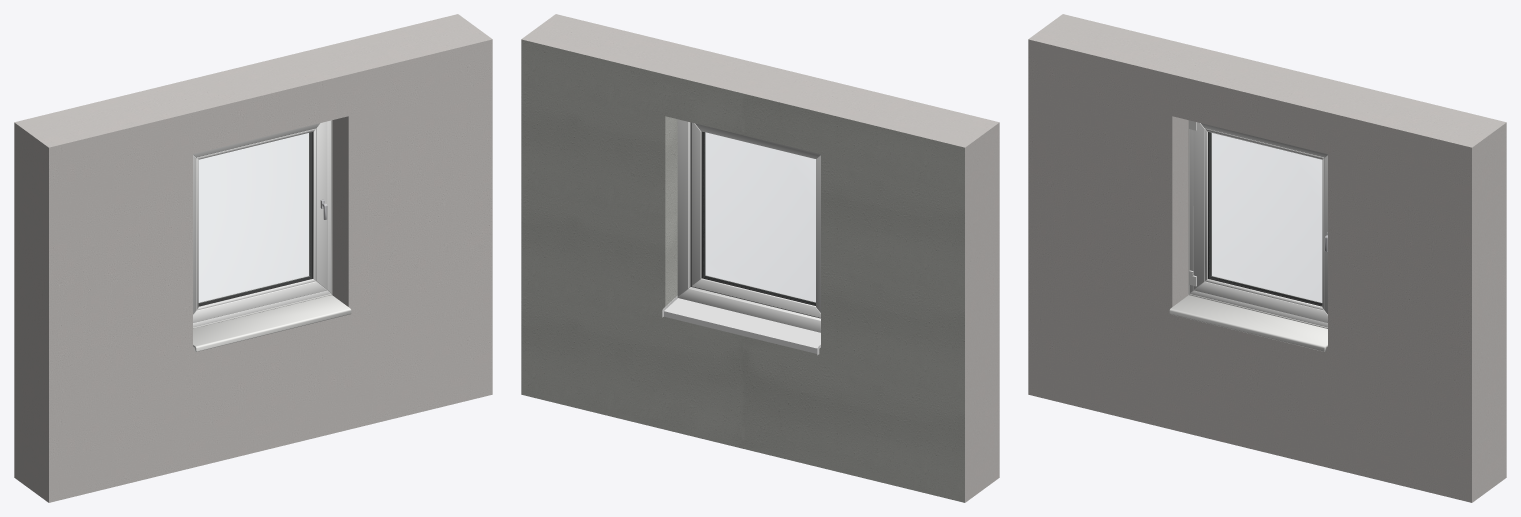
File: fenster.glb
3 views of the same model, side by side, from view 1: azimuth 30°, elevation 25°; view 2: azimuth 150°, elevation 25°; view 3: azimuth 330°, elevation 25° (orthographic).
Parts seen in each view (by area): view 1: Wand, Glas, Fluegel, Fensterbank, Glasleiste, Dichtung, Rahmen_unten, Rahmen_rechts, Anschlussfuge; view 2: Wand, Glas, Fluegel, Fensterbank_aussen, Rahmen_rechts, Rahmen_unten, Dichtung; view 3: Wand, Glas, Fluegel, Fensterbank, Glasleiste, Dichtung, Rahmen_unten, Anschlussfuge, Rahmen_links.
Boxes of the visible parts, x1,y1,x2,y2 form: Wand: (14,14,492,502); Glas: (199,133,311,303); Fluegel: (193,121,327,322); Fensterbank: (193,295,351,351); Glasleiste: (196,128,316,310); Dichtung: (198,132,312,306); Rahmen_unten: (193,290,330,327); Rahmen_rechts: (327,120,330,292); Anschlussfuge: (193,120,332,328); Wand: (521,14,999,502); Glas: (703,132,815,303); Fluegel: (691,123,820,317); Fensterbank_aussen: (662,296,820,355); Rahmen_rechts: (677,119,690,296); Rahmen_unten: (677,287,820,332); Dichtung: (701,131,815,305); Wand: (1028,14,1506,502); Glas: (1209,132,1321,303); Fluegel: (1193,122,1327,322); Fensterbank: (1169,295,1327,351); Glasleiste: (1204,128,1324,310); Dichtung: (1208,132,1322,306); Rahmen_unten: (1190,290,1327,327); Anschlussfuge: (1188,120,1327,328); Rahmen_links: (1190,129,1193,292).
Size of the model in its own units: 3.4 by 2.6 by 0.545.
10 materials, 2 textured.
